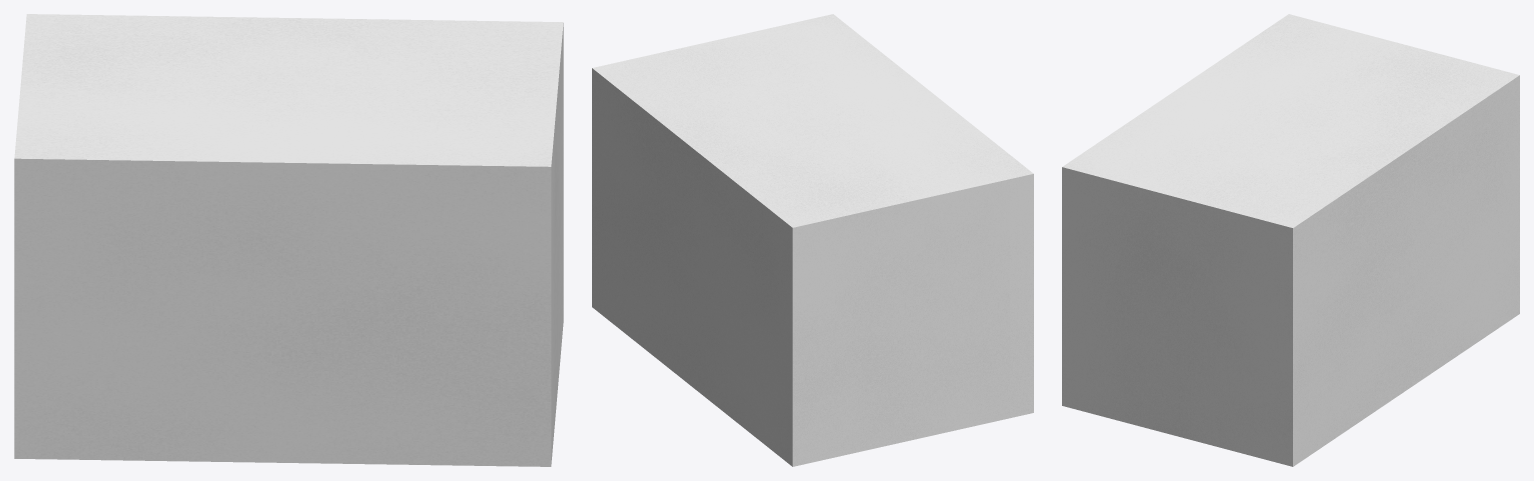
The model's file is FOLA.gltf.
3 views of the same model, side by side, from view 1: azimuth 30°, elevation 25°; view 2: azimuth 150°, elevation 25°; view 3: azimuth 270°, elevation 25° (orthographic). The views are drawn at different scales.
Parts seen in each view (by area): view 1: FOLA; view 2: FOLA; view 3: FOLA.
Boxes of the visible parts, <box> form: FOLA: <box>14,14,563,466</box>; FOLA: <box>592,14,1033,466</box>; FOLA: <box>1062,14,1519,466</box>.
Bounding box in the file's own units: 0.6486 × 0.3371 × 0.5859.
Materials: 1 (1 with a texture image).
